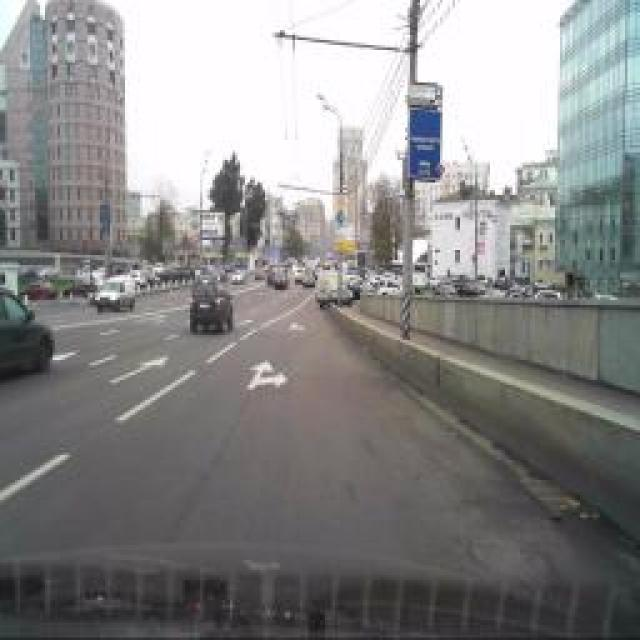sign: (336, 210, 344, 225)
